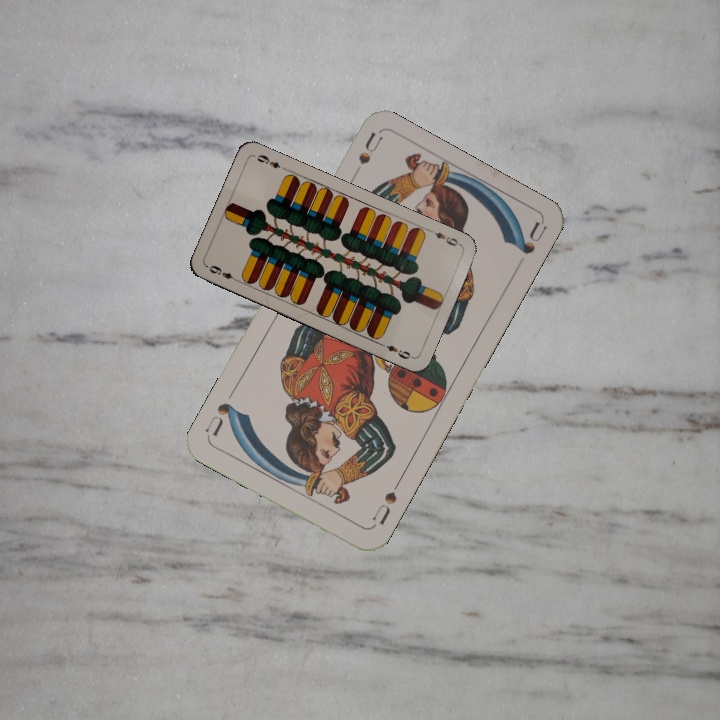E9: (204, 261, 242, 285), (425, 226, 463, 249)
SU: (367, 476, 404, 530), (354, 129, 385, 167)
